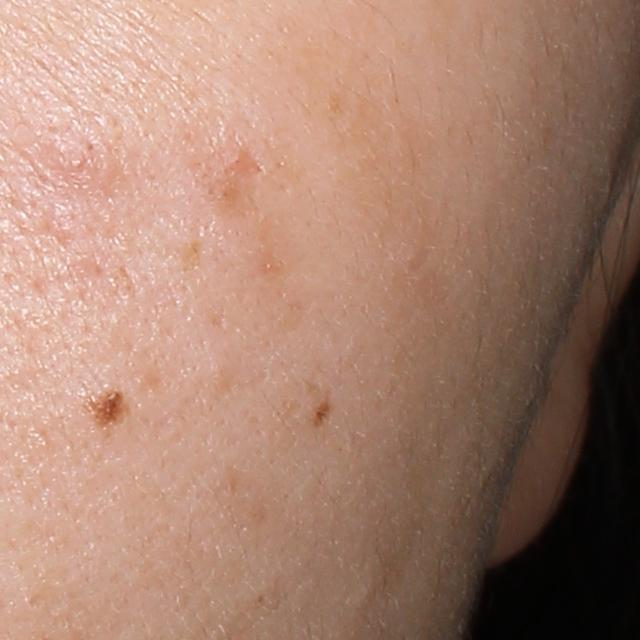nevus: (81, 385, 133, 435), (308, 393, 333, 429)
